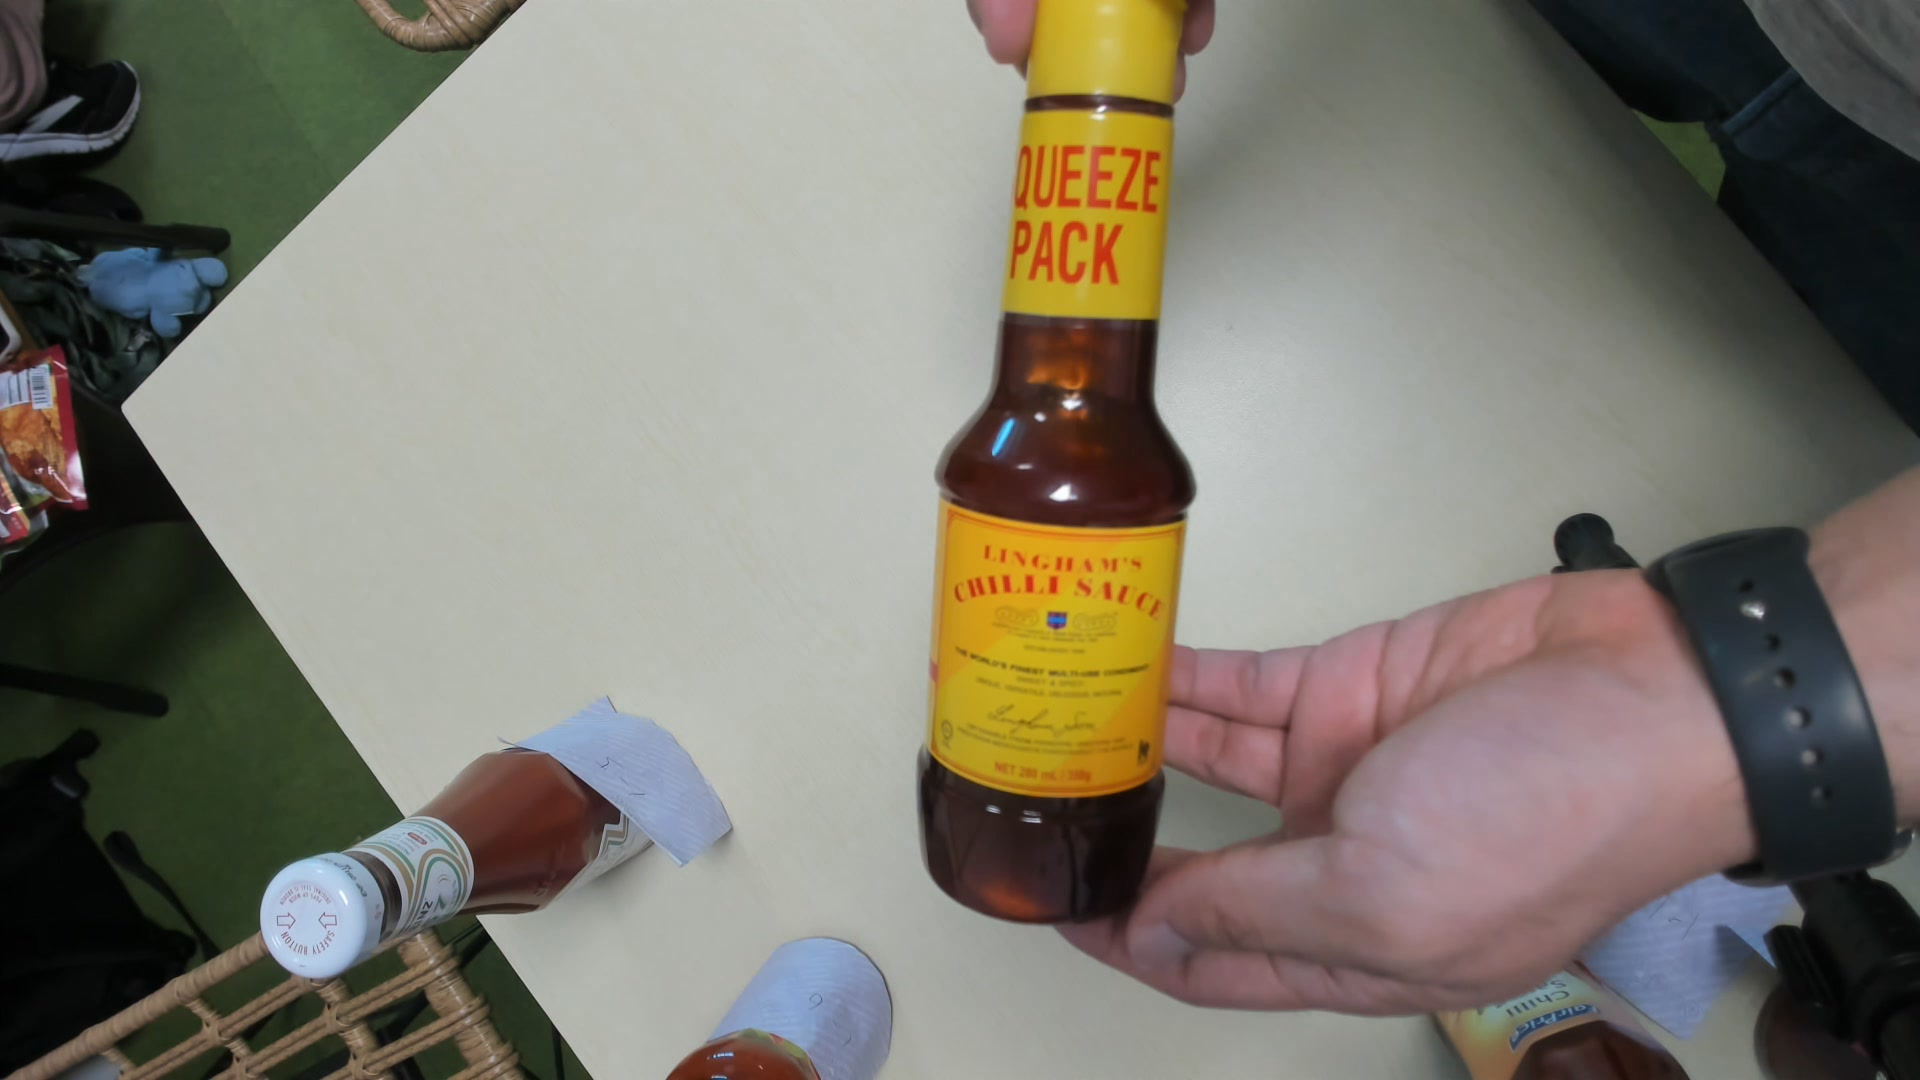KetchupChillSauce_300-399g_Halal_NonHealthy: (920, 3, 1203, 928)
